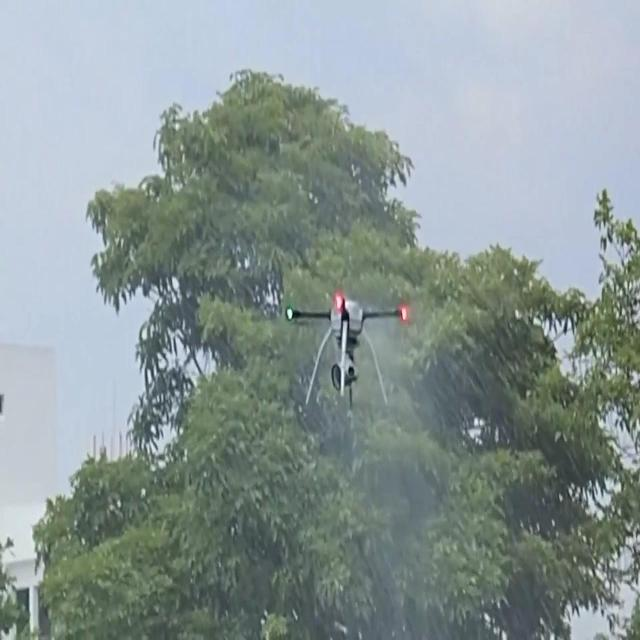drone: (277, 292, 407, 409)
